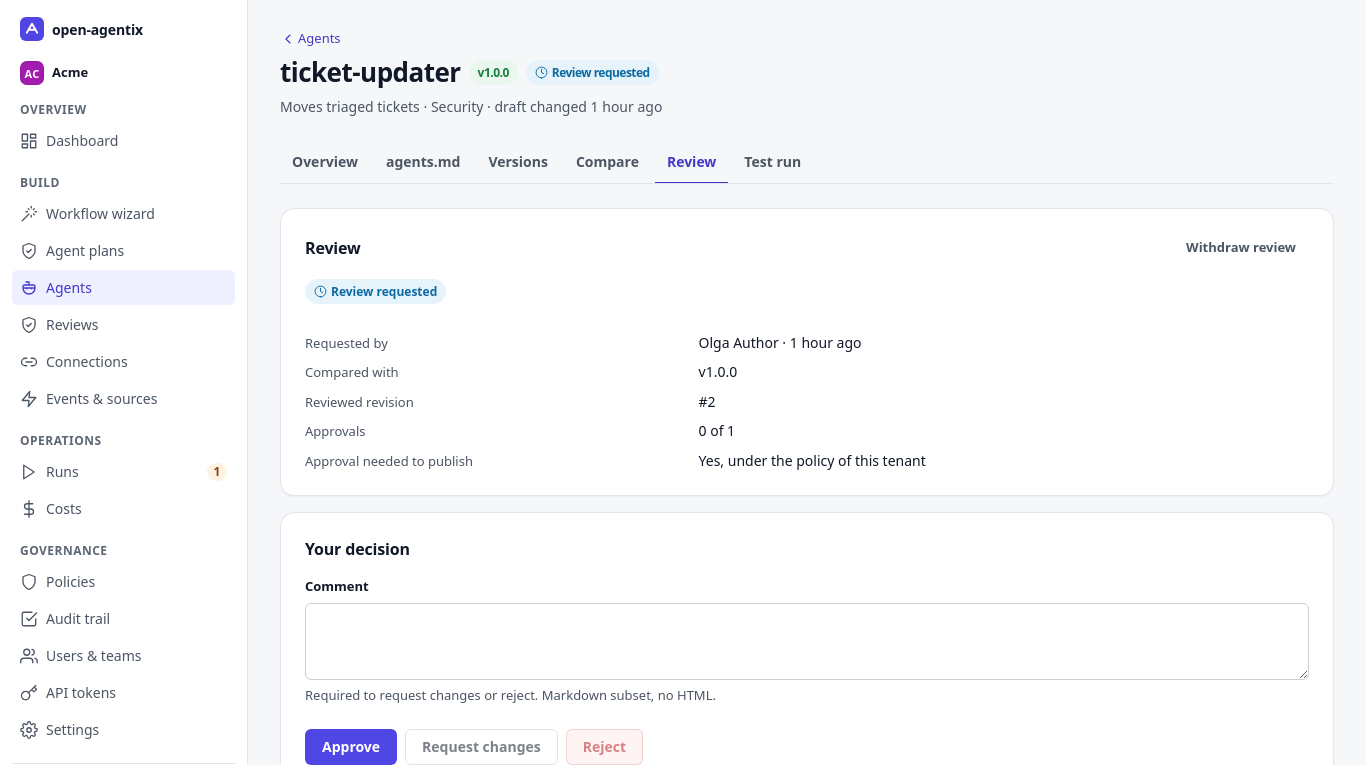
Scenario: the decision bar › lets an eligible reviewer decide, binding the decision to every digest on screen
Click the button "Approve": {"x": 351, "y": 747} [305,729,397,764]
(page scrolled)
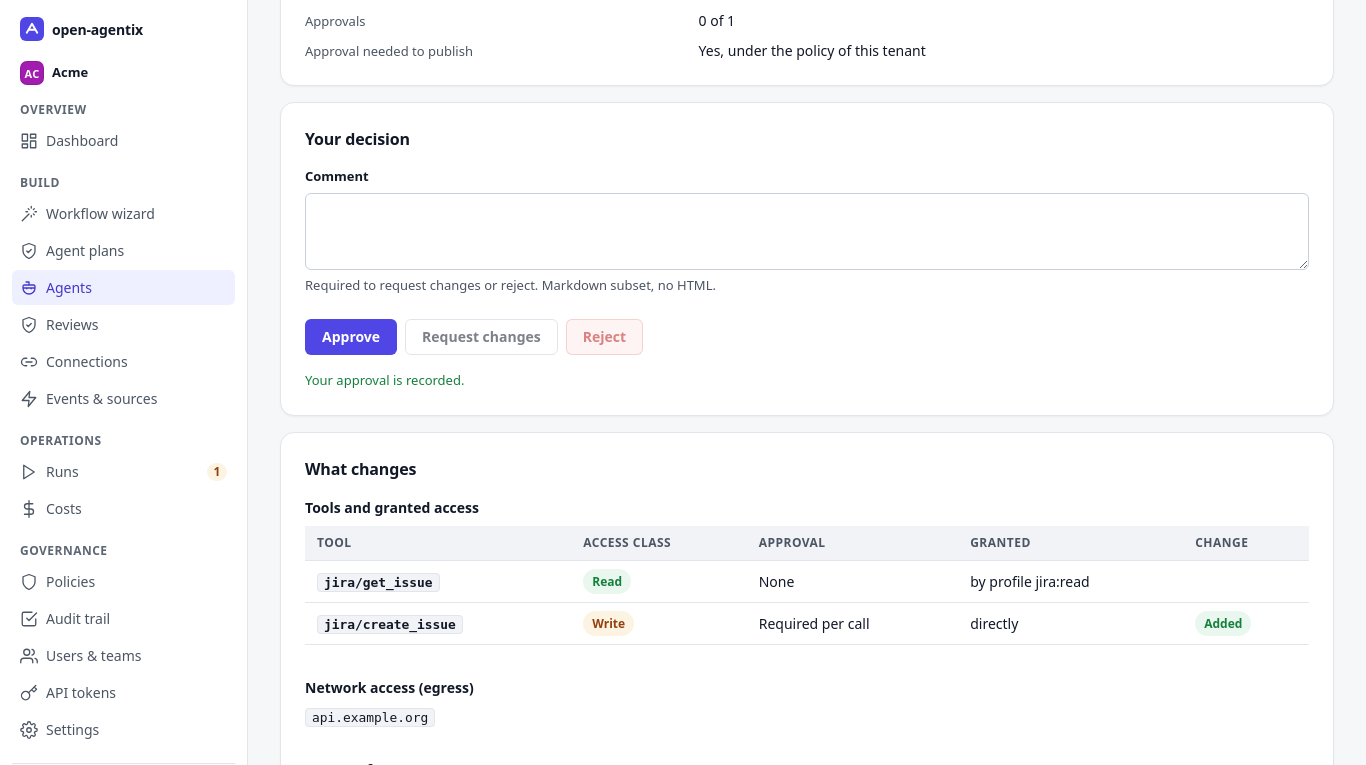
expect the text "Your approval is recorded." is shown: met, box [305,371,464,389]
